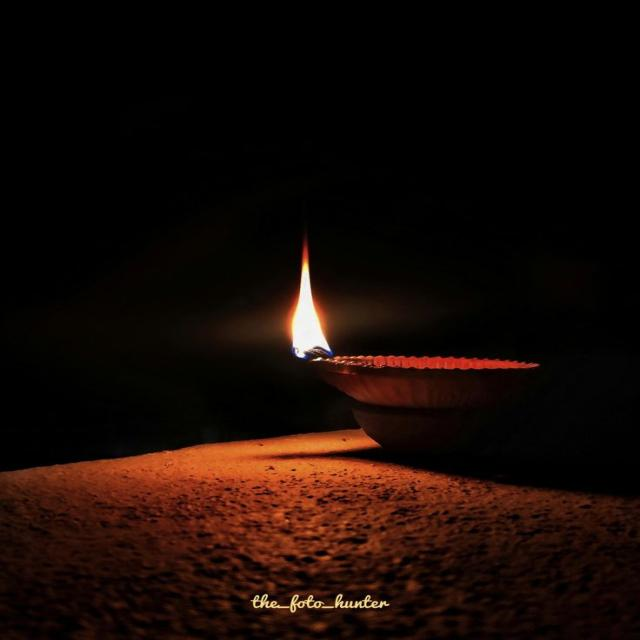fire: (288, 239, 336, 363)
